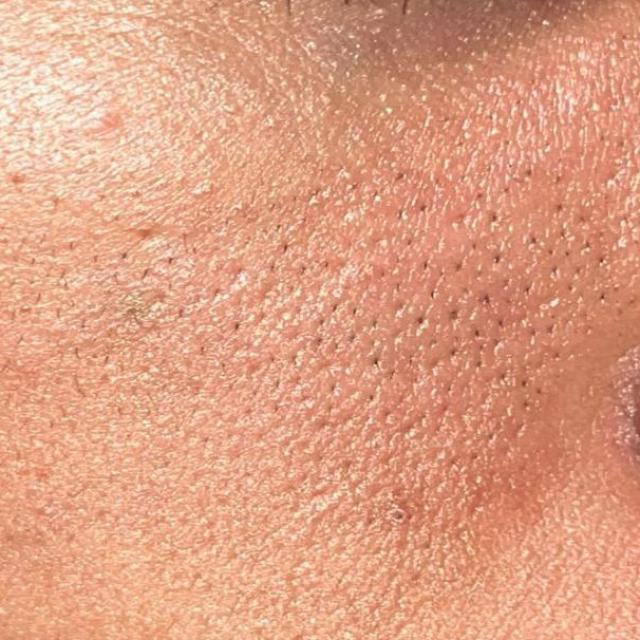blackhead: (57, 159, 605, 435)
